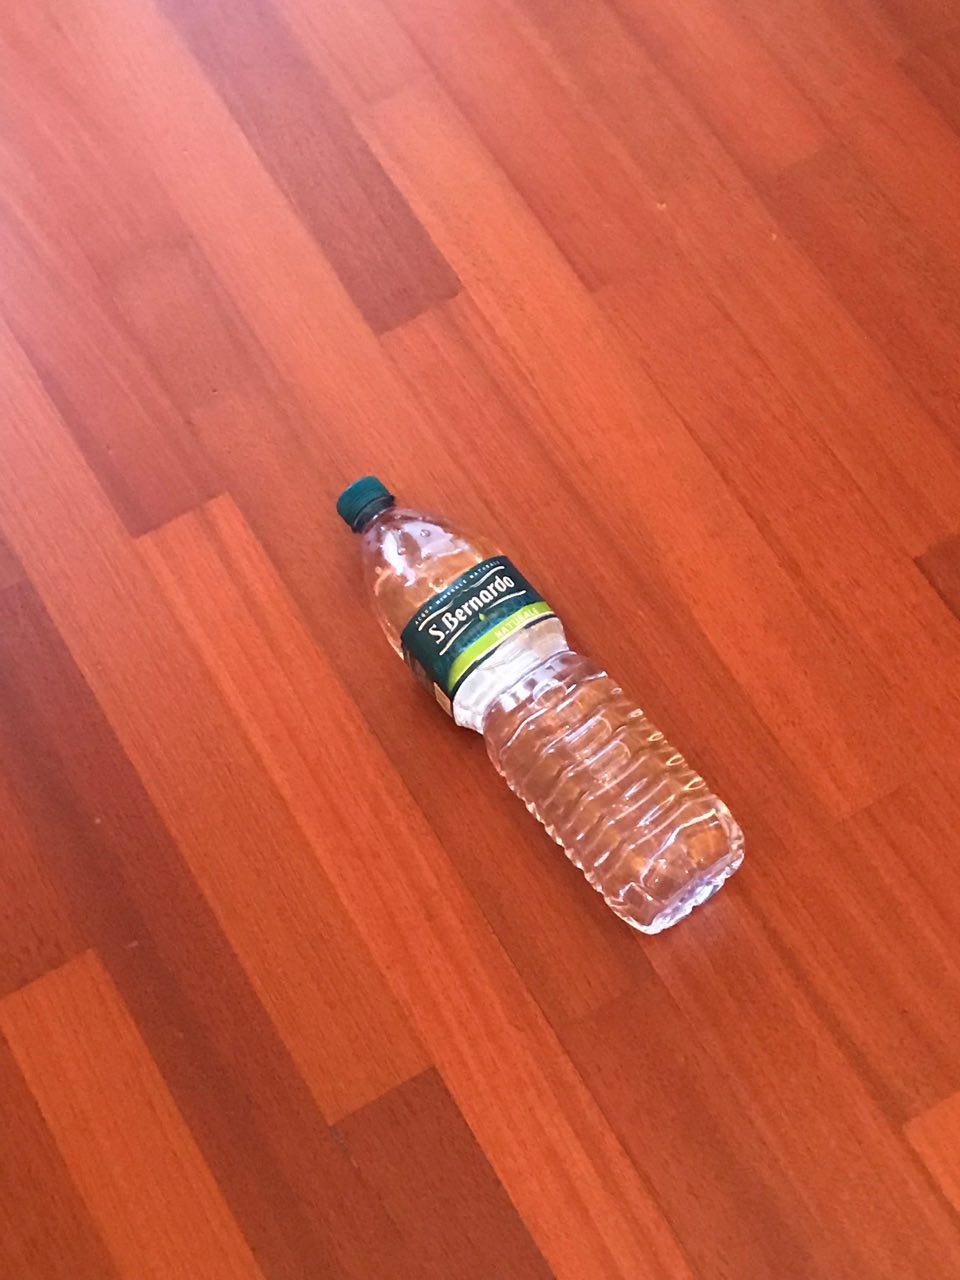san_bernardo: (336, 474, 745, 937)
